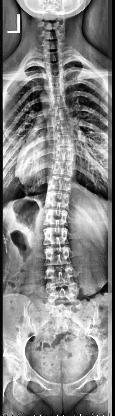Vertebrae: (45, 286, 80, 302), (44, 245, 72, 265), (45, 268, 77, 284), (44, 225, 68, 245), (47, 192, 71, 210), (51, 175, 75, 193), (45, 208, 70, 224), (53, 160, 75, 176), (56, 145, 76, 161), (53, 108, 73, 122), (56, 134, 74, 148), (56, 122, 72, 134), (50, 84, 65, 96), (54, 96, 68, 108), (49, 62, 63, 74), (50, 73, 65, 83)
